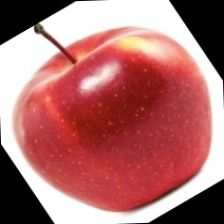apple: (30, 57, 185, 207)
